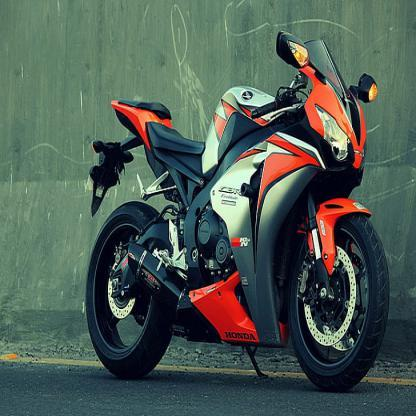Motorcycle: (77, 34, 389, 391)
